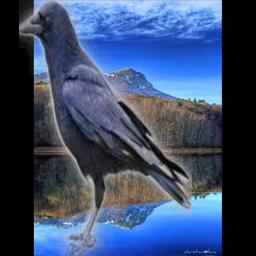Crow: (19, 0, 192, 256)
